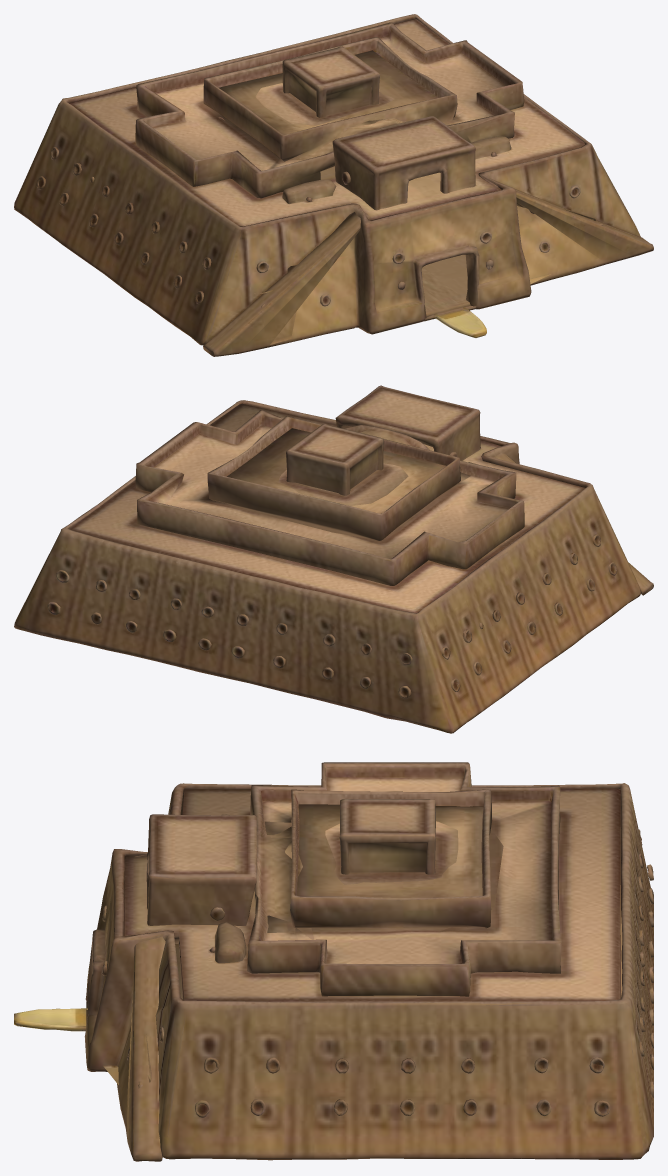
The model's file is site_ziggurat.glb.
3 views of the same model, one above another, from view 1: azimuth 30°, elevation 25°; view 2: azimuth 150°, elevation 25°; view 3: azimuth 270°, elevation 25° (orthographic). The views are drawn at different scales.
Size of the model in its own units: 1 by 0.3597 by 1.
1 material, 1 textured.
